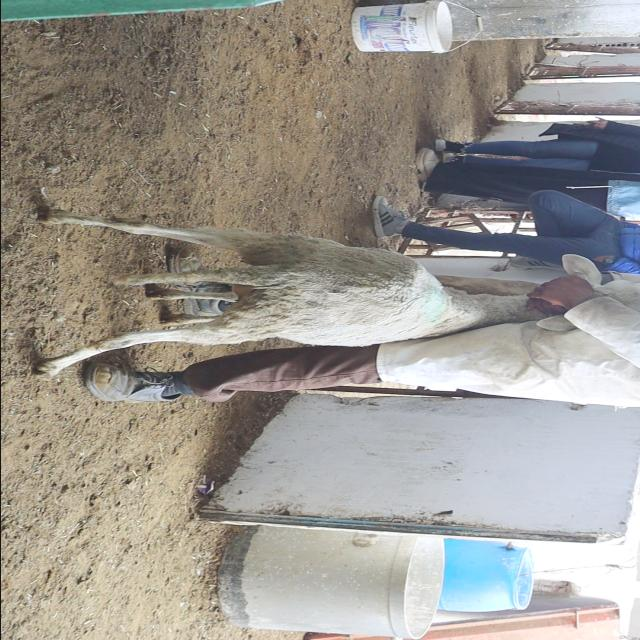Score_1: (35, 209, 552, 378)
